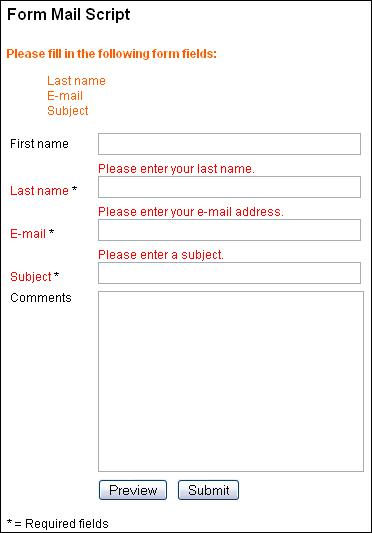error_message: (98, 206, 284, 219), (97, 161, 254, 175), (99, 248, 223, 261), (8, 184, 68, 196), (8, 226, 47, 240), (8, 271, 53, 283)
